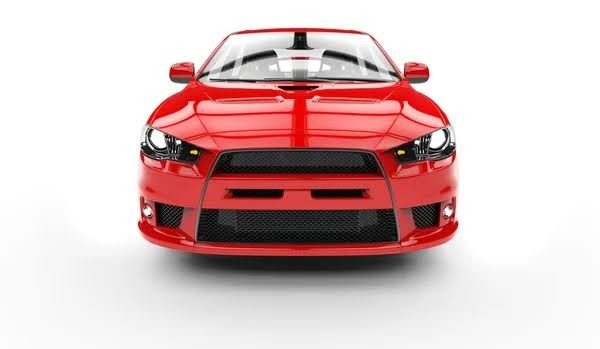car: (133, 32, 459, 254), (132, 31, 456, 254)
